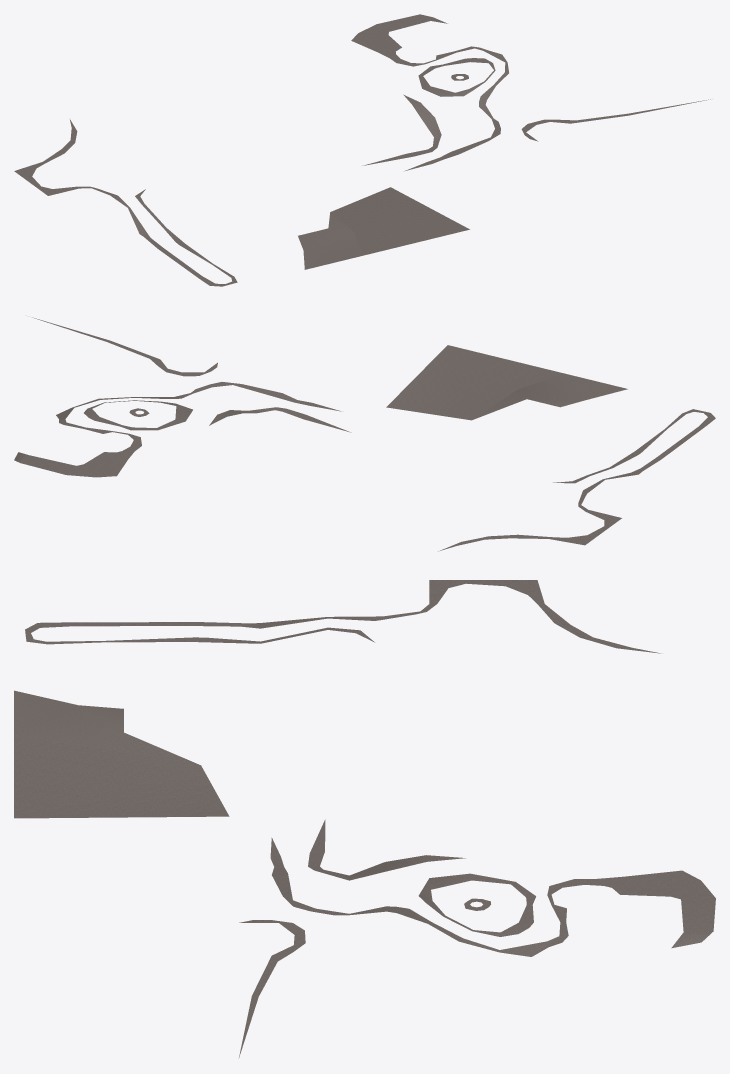
Rendered from kd_stage_135ded_4_122_bounded.glb.
3 renders of one model, top to bottom at view 1: azimuth 30°, elevation 25°; view 2: azimuth 150°, elevation 25°; view 3: azimuth 270°, elevation 25°, orthographic. The views are drawn at different scales.
Parts seen in each view (by area): view 1: kd_stage_135ded_4_122_bounded; view 2: kd_stage_135ded_4_122_bounded; view 3: kd_stage_135ded_4_122_bounded.
Part boxes in pixels (box(x1,y1,x2,y2)): kd_stage_135ded_4_122_bounded: box(14, 14, 710, 286); kd_stage_135ded_4_122_bounded: box(14, 317, 715, 551); kd_stage_135ded_4_122_bounded: box(14, 580, 715, 1058).
Bounding box in the file's own units: 16.65 × 0.4709 × 10.52.
1 material, 1 textured.
